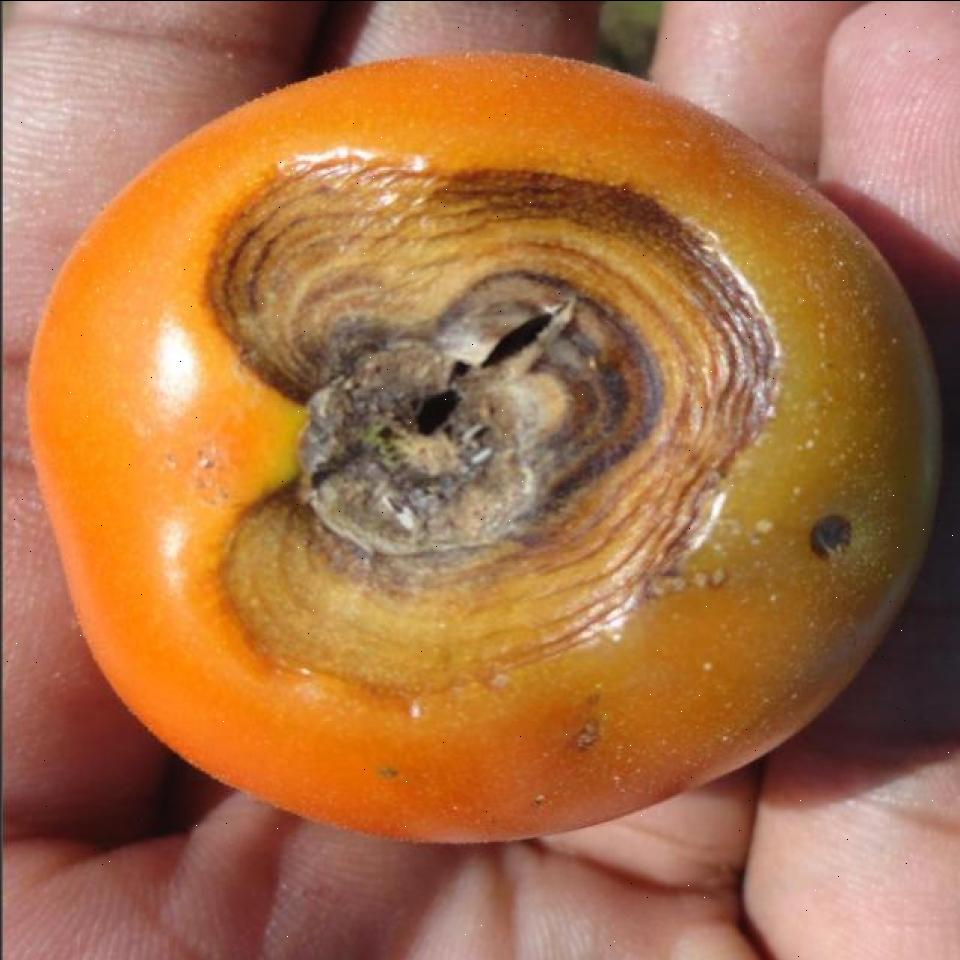Sunscald: (172, 123, 779, 780)
